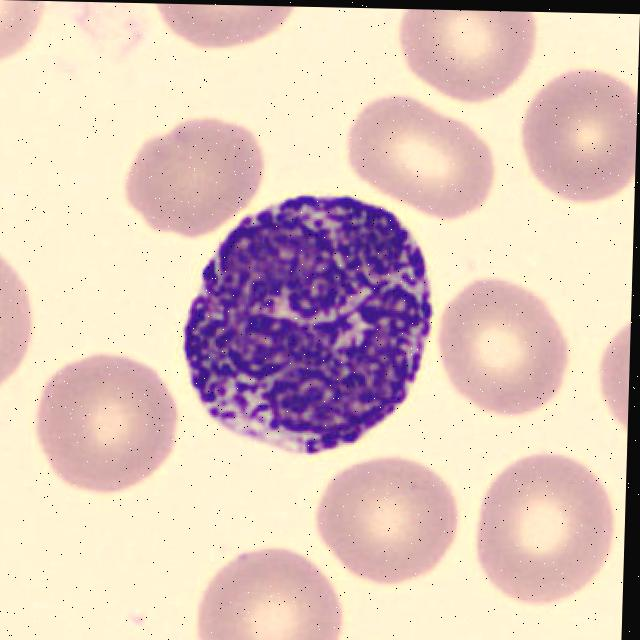basophil: (170, 205, 438, 461)
rbc: (291, 458, 463, 598), (473, 455, 616, 617), (326, 97, 499, 222), (428, 274, 574, 421), (34, 354, 188, 482), (516, 64, 638, 214), (115, 127, 265, 233), (375, 8, 542, 100), (189, 552, 351, 640), (149, 3, 304, 58), (0, 254, 43, 400), (589, 314, 631, 453), (0, 1, 53, 77)
